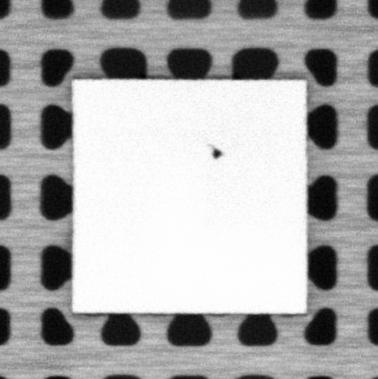DIE_INK: (208, 144, 223, 159)
